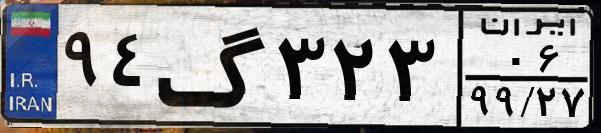0: (508, 27, 537, 80)
2: (330, 28, 385, 110), (535, 70, 560, 125)
3: (270, 28, 330, 110), (385, 28, 445, 110)
4: (110, 28, 156, 98)
6: (537, 27, 568, 80)
7: (560, 70, 590, 125)
9: (57, 26, 110, 100), (470, 70, 495, 125), (495, 70, 520, 125)
گ: (156, 12, 270, 120)
